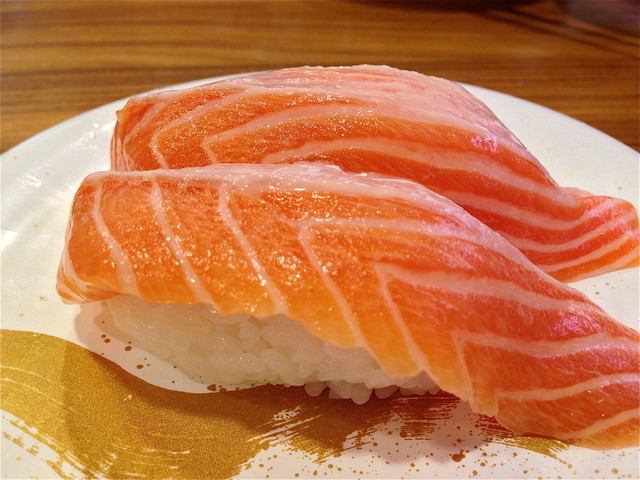salmon: (60, 165, 640, 452)
